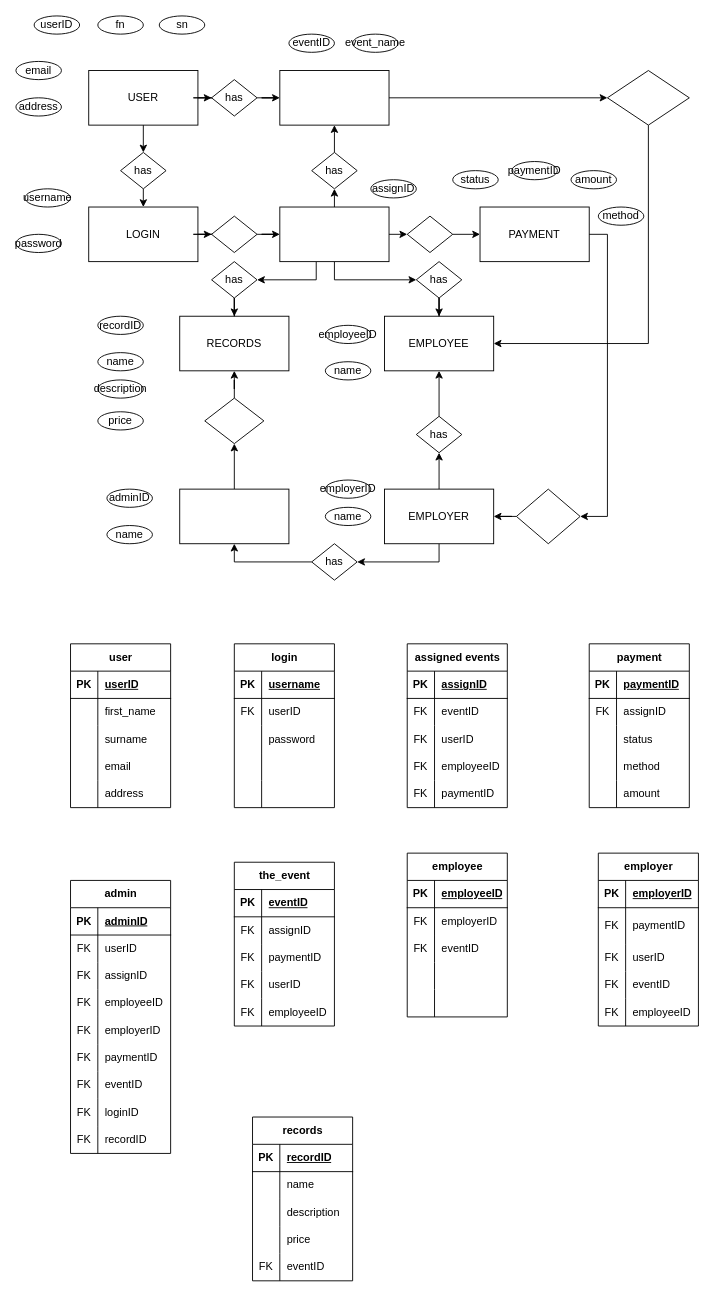
This 714x1297 diagram has some shape labels left out. The centre of each missing label's shape, as x and y in pixels:
"ADMINS" goes at (234,516).
"ASSIGN EVENTS" goes at (334,234).
"books" goes at (234,234).
"contracts" goes at (648,97).
"manages" goes at (234,420).
"needs" goes at (429,234).
"receives by" goes at (548,516).
"THE EVENT" goes at (334,97).
